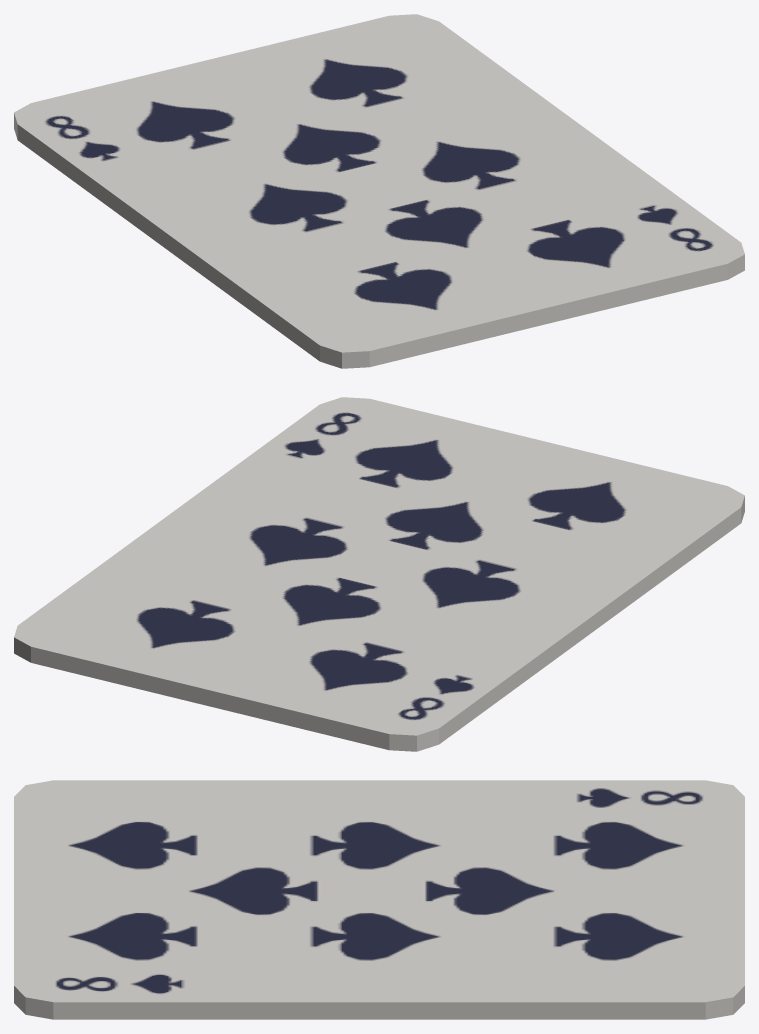
File: SM_Item_Playing_Card_08.fbx
3 views of the same model, one above another, from view 1: azimuth 30°, elevation 25°; view 2: azimuth 150°, elevation 25°; view 3: azimuth 270°, elevation 25° (orthographic). The views are drawn at different scales.
Parts seen in each view (by area): view 1: SM_Item_Playing_Card_08; view 2: SM_Item_Playing_Card_08; view 3: SM_Item_Playing_Card_08.
Part boxes in pixels (box(x1,y1,x2,y2)): SM_Item_Playing_Card_08: box(14, 14, 744, 368); SM_Item_Playing_Card_08: box(14, 397, 744, 751); SM_Item_Playing_Card_08: box(14, 780, 744, 1019).
Size of the model in its own units: 11.67 by 0.4281 by 16.24.
